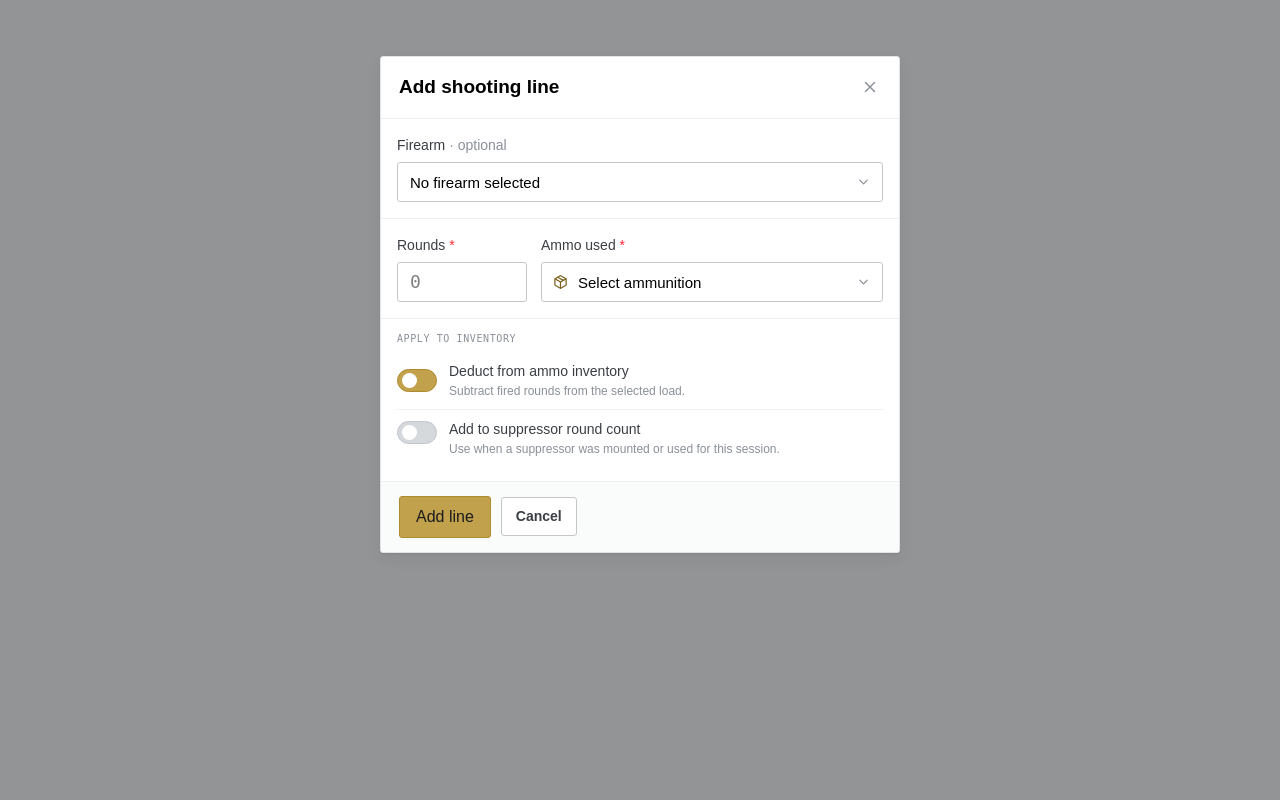
AddSessionLineModal › uses the shared training line fields and detailed ammunition label
Select "5.56 NATO · PMC · Bronze · 55 gr" in the dropdown below "Ammo used": coordinates (712, 282) [541, 262, 883, 302]
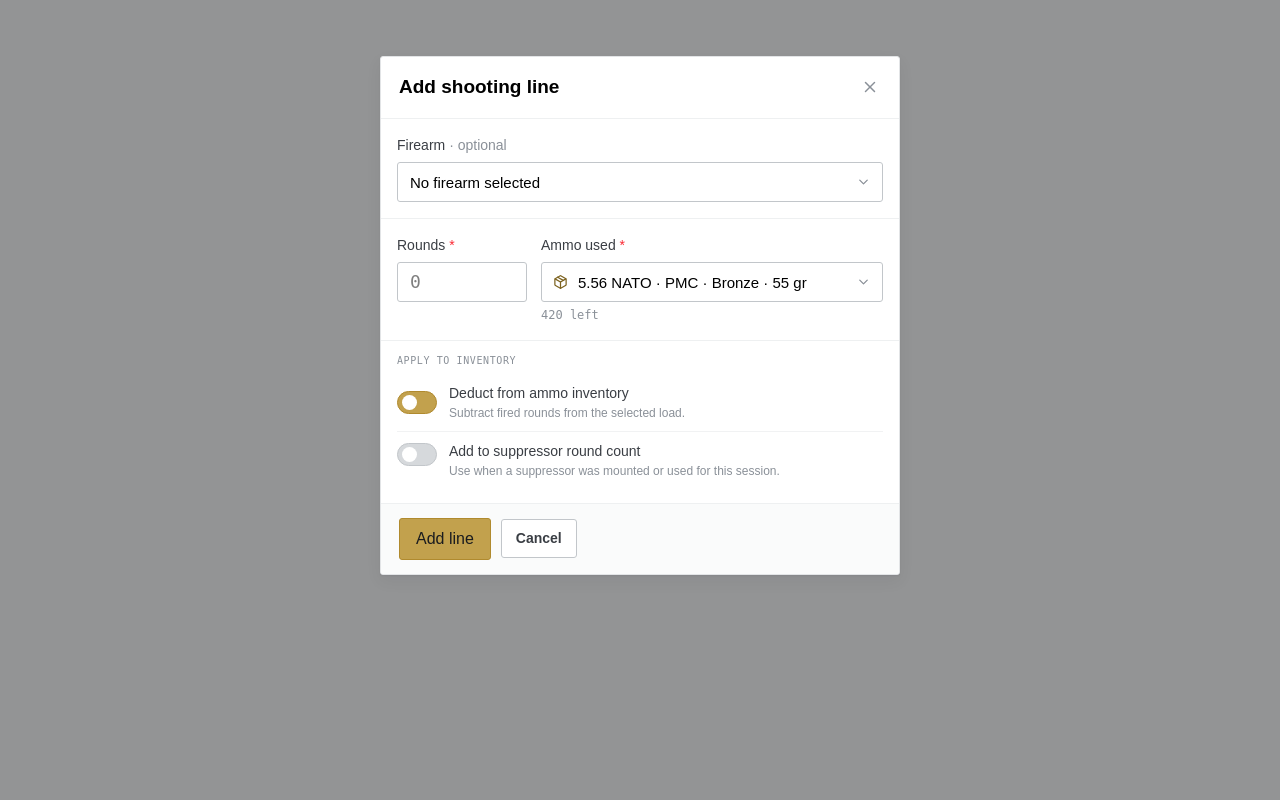
Expected: the text "420 left" is shown, [541, 308, 599, 322]
